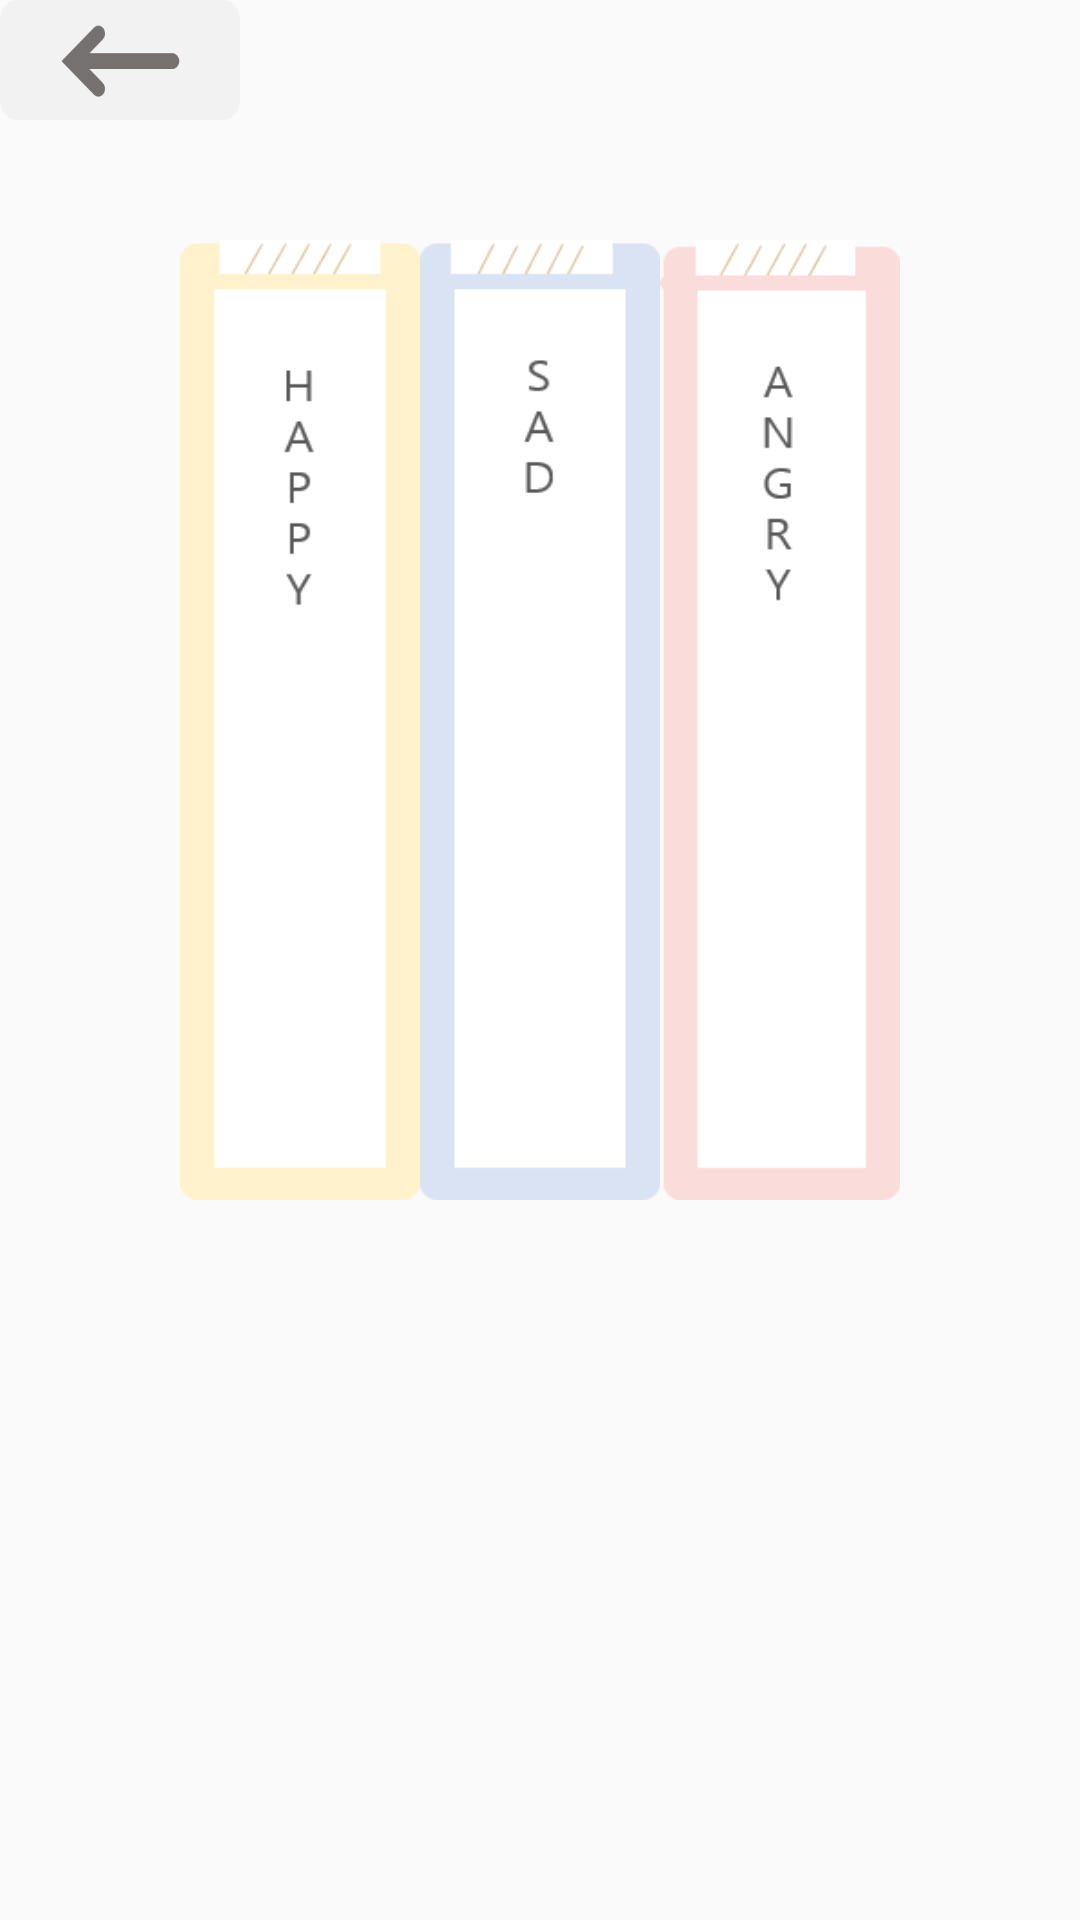

Icons on this 1080 × 1920 Android screen, each with the point to tap as (x=x, y=y):
back: (x=121, y=61)
